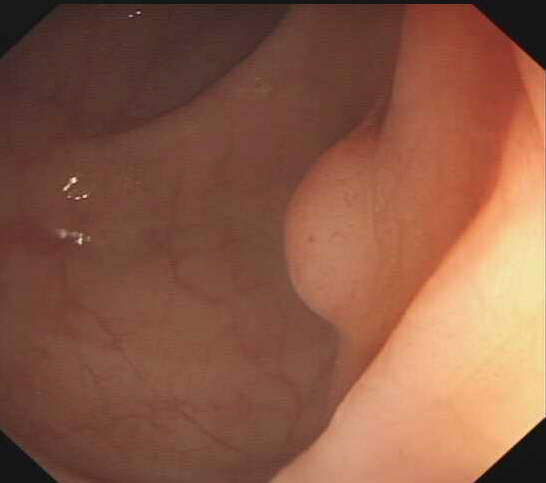others: (279, 123, 381, 332)
